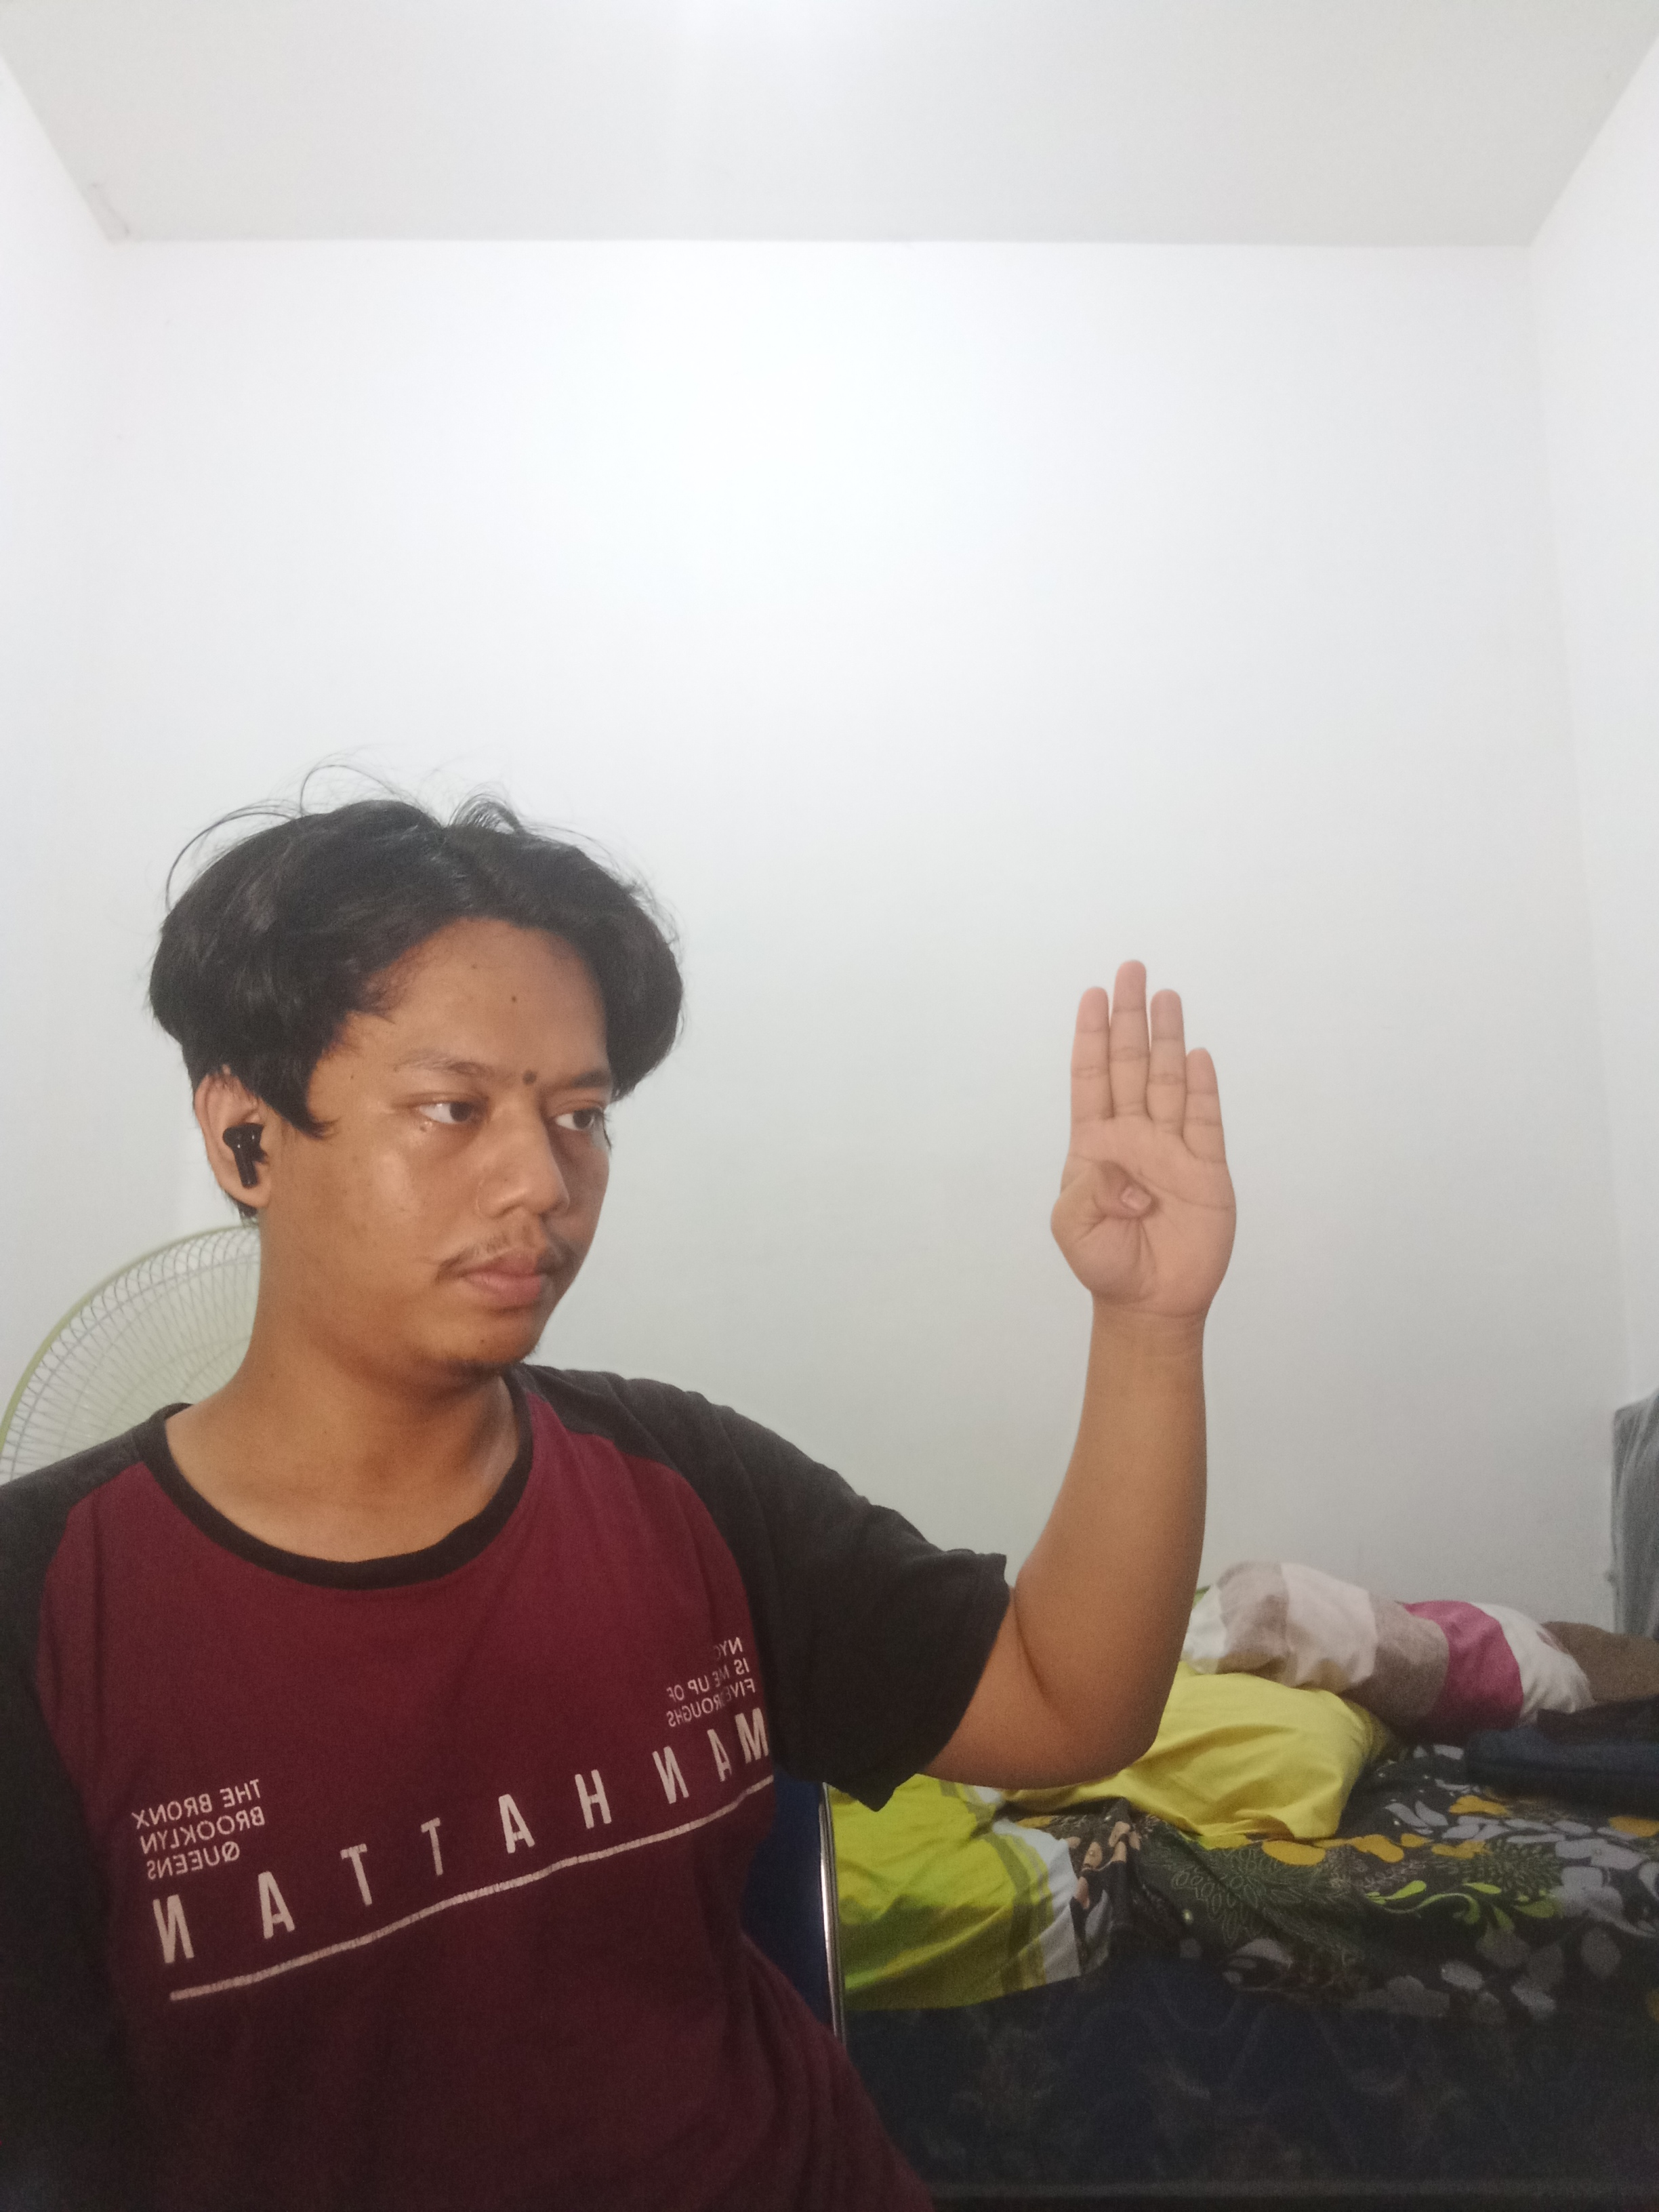B: (1039, 956, 1265, 1336)
